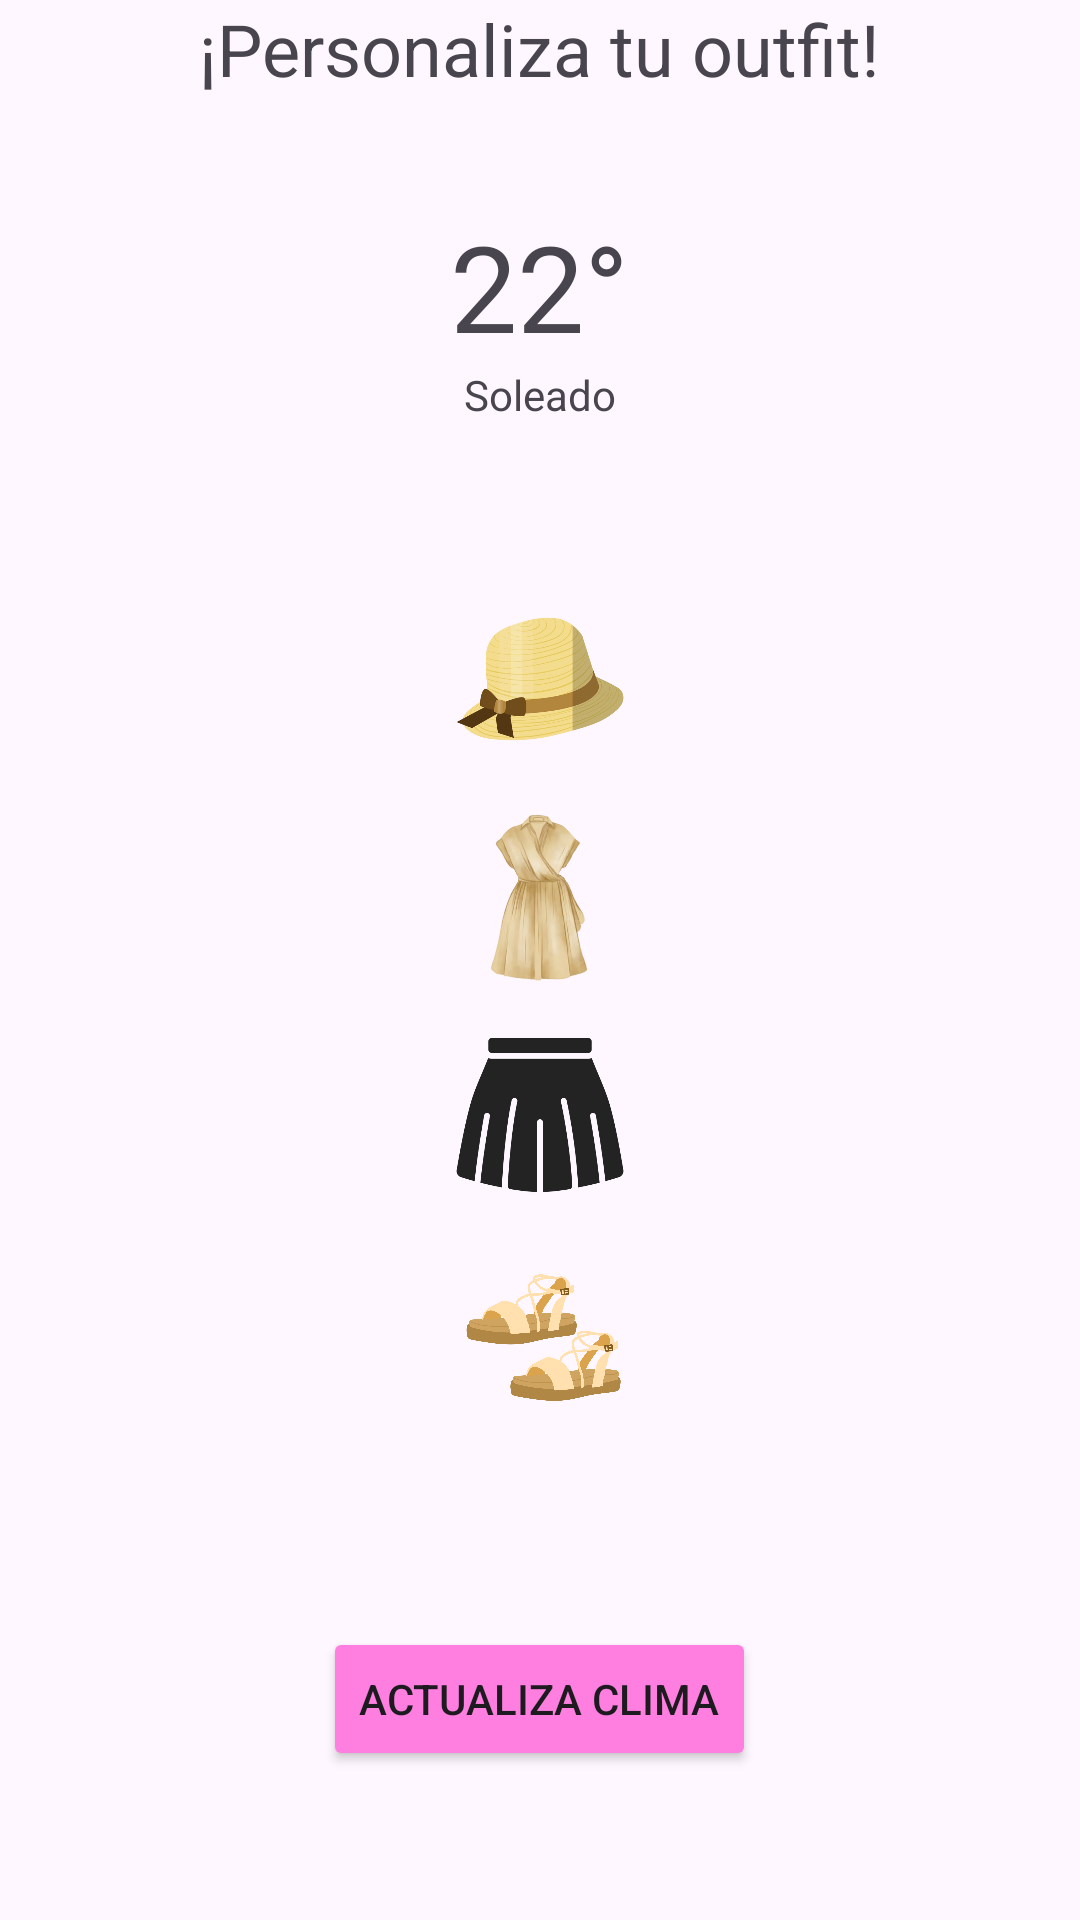

Named icons in this screenshot (1080×1920) and their centers, [x,y]:
falda: [540,1115]
sobrero amarillo: [540,679]
vestido beige: [539,898]
zapatillas beige: [543,1337]
